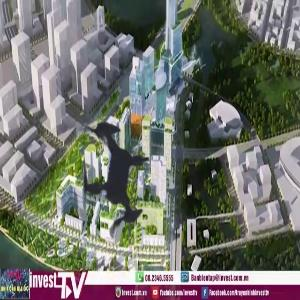drone: (24, 88, 208, 272)
